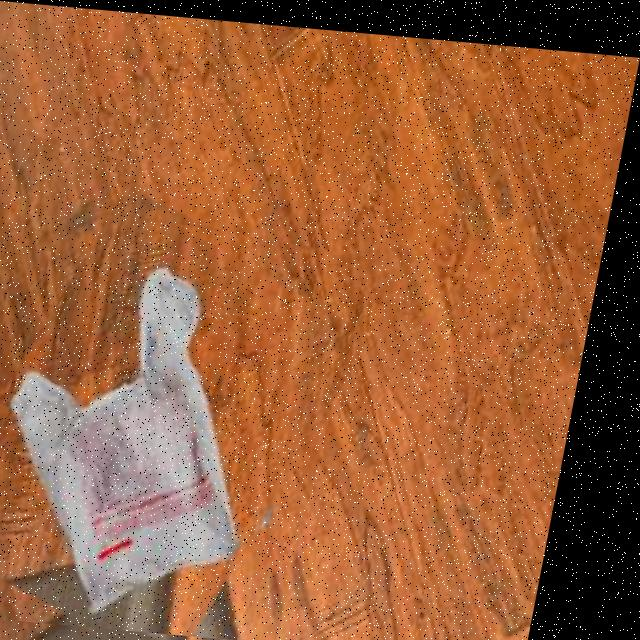plasticcover: (0, 195, 381, 637)
